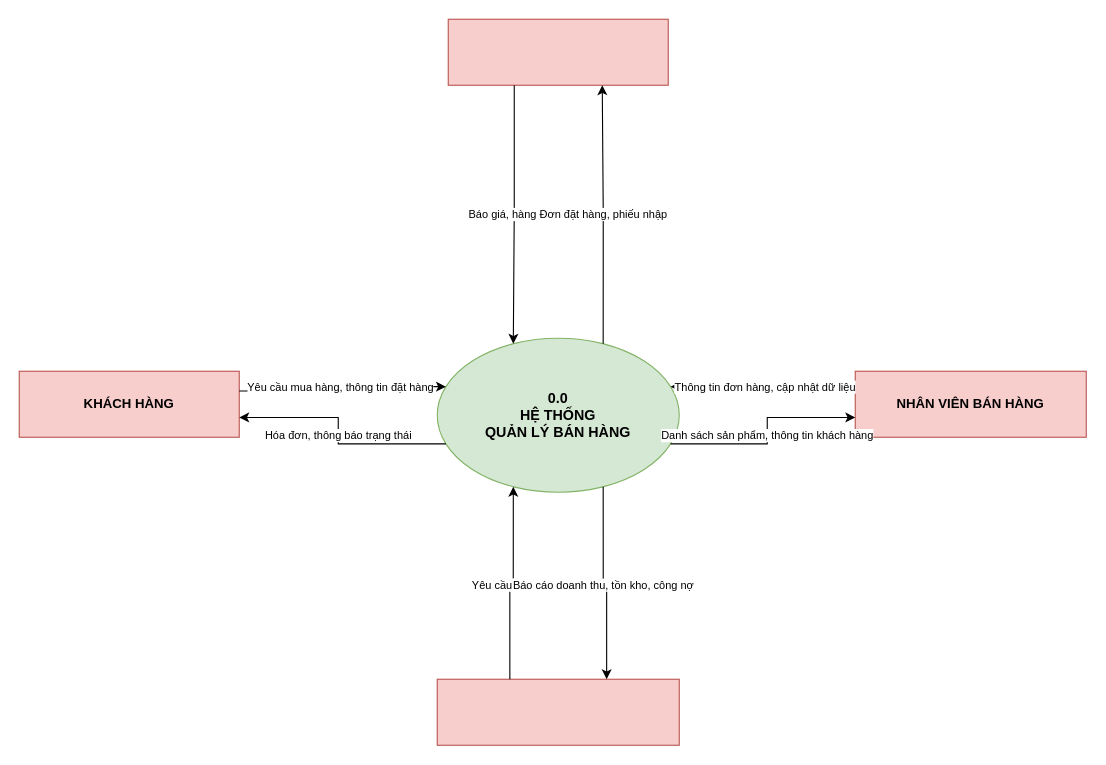
Some shapes in this 1106 by 765 pixel diagram are drawn without their labels. Here are the shapes that lost their labels. From the top down, the box of each, then its label:
(447, 18, 668, 85): NHÀ CUNG CẤP
(436, 678, 679, 745): QUẢN LÝ (BAN GIÁM ĐỐC)
